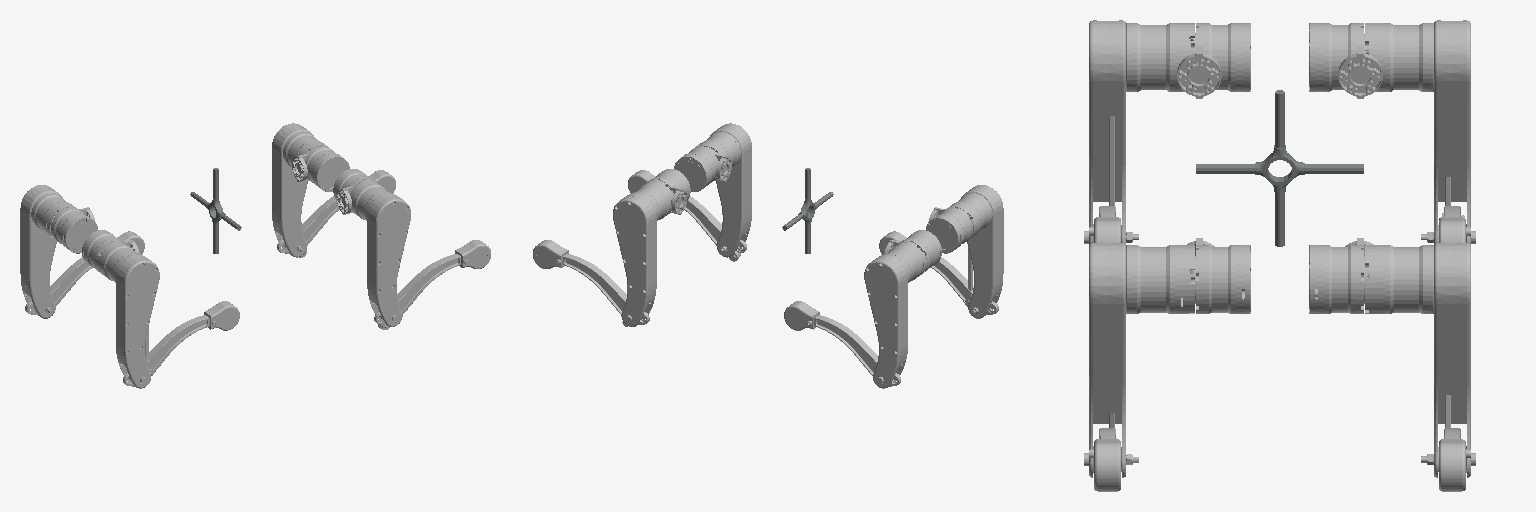
robot.urdf — CatModel2:
<?xml version="1.0" encoding="utf-8"?>
<!-- This URDF was automatically created by SolidWorks to URDF Exporter! Originally created by [author] ([email redacted]) 
     Commit Version: 1.6.0-4-g7f85cfe  Build Version: 1.6.7995.38578
     For more information, please see http://wiki.ros.org/sw_urdf_exporter -->
<robot name="CatModel2">
  <link name="Cross">
    <inertial>
      <origin xyz="-2.36887598425994E-09 6.86024698058002E-09 7.23837040835466E-08" rpy="0 0 0" />
      <mass value="0.113153796633628" />
      <inertia ixx="0.000168367866604863" ixy="-5.26684924025301E-12" ixz="-2.60273835718829E-12" iyy="8.47639452117596E-05" iyz="5.67116897297494E-17" izz="8.47639968505591E-05" />
    </inertial>
    <visual>
      <origin xyz="0 0 0" rpy="0 0 0" />
      <geometry>
        <mesh filename="package://CatModel2/meshes/Cross.STL" />
      </geometry>
      <material name="">
        <color rgba="0.529411764705882 0.549019607843137 0.549019607843137 1" />
      </material>
    </visual>
    <collision>
      <origin xyz="0 0 0" rpy="0 0 0" />
      <geometry>
        <mesh filename="package://CatModel2/meshes/Cross.STL" />
      </geometry>
    </collision>
  </link>
  <link name="Chset">
    <inertial>
      <origin xyz="0.104539401366541 -2.01621244951154E-05 0.00199155261541815" rpy="0 0 0" />
      <mass value="1.27226284554368" />
      <inertia ixx="0.00255686763387815" ixy="1.33312993805634E-06" ixz="-2.99664267243253E-07" iyy="0.00151466436913898" iyz="4.31801099234721E-07" izz="0.00191207554949256" />
    </inertial>
    <visual>
      <origin xyz="0 0 0" rpy="0 0 0" />
      <geometry>
        <mesh filename="package://CatModel2/meshes/Chset.STL" />
      </geometry>
      <material name="">
        <color rgba="0.752941176470588 0.752941176470588 0.752941176470588 1" />
      </material>
    </visual>
    <collision>
      <origin xyz="0 0 0" rpy="0 0 0" />
      <geometry>
        <mesh filename="package://CatModel2/meshes/Chset.STL" />
      </geometry>
    </collision>
  </link>
  <joint name="Chest" type="revolute">
    <origin xyz="0 0 0" rpy="0 0 0" />
    <parent link="Cross" />
    <child link="Chset" />
    <axis xyz="0 1 0" />
    <limit lower="-0.82" upper="0.82" effort="15" velocity="5"  />
  </joint>


  <link name="LF_abad">
    <inertial>
      <origin xyz="-0.00315731503471477 -0.0157630614011298 0.000227202912327459" rpy="0 0 0" />
      <mass value="0.0419114568273025" />
      <inertia ixx="1.07554121115931E-05" ixy="-2.15175894008892E-08" ixz="-2.57374378273883E-10" iyy="2.05011185239708E-05" iyz="2.96687209794454E-09" izz="1.21095277275058E-05" />
    </inertial>
    <visual>
      <origin xyz="0 0 0" rpy="0 0 0" />
      <geometry>
        <mesh filename="package://CatModel2/meshes/LF_abad.STL" />
      </geometry>
      <material name="">
        <color rgba="0.752941176470588 0.752941176470588 0.752941176470588 1" />
      </material>
    </visual>
    <collision>
      <origin xyz="0 0 0" rpy="0 0 0" />
      <geometry>
        <mesh filename="package://CatModel2/meshes/LF_abad.STL" />
      </geometry>
    </collision>
  </link>
  <joint name="LF_abad" type="revolute">
    <origin xyz="0.212 0.065 0" rpy="0 0 0" />
    <parent link="Chset" />
    <child link="LF_abad" />
    <axis xyz="1 0 0" />
    <limit lower="-0.82" upper="0.82" effort="9.6" velocity="10" />
  </joint>
  <link name="LF_hip">
    <inertial>
      <origin xyz="-0.00243046488327595 -0.011112656728708 -0.0480003348020764" rpy="0 0 0" />
      <mass value="0.314940626414665" />
      <inertia ixx="0.000594291196733731" ixy="1.06224043635234E-07" ixz="-2.17866578465269E-05" iyy="0.000651542828739686" iyz="-8.47333404135857E-07" izz="7.11737574291626E-05" />
    </inertial>
    <visual>
      <origin xyz="0 0 0" rpy="0 0 0" />
      <geometry>
        <mesh filename="package://CatModel2/meshes/LF_hip.STL" />
      </geometry>
      <material name="">
        <color rgba="0.752941176470588 0.752941176470588 0.752941176470588 1" />
      </material>
    </visual>
    <collision>
      <origin xyz="0 0 0" rpy="0 0 0" />
      <geometry>
        <mesh filename="package://CatModel2/meshes/LF_hip.STL" />
      </geometry>
    </collision>
  </link>
  <joint name="LF_hip" type="continuous">
    <origin xyz="0 0.074 0" rpy="0 0 0" />
    <parent link="LF_abad" />
    <child link="LF_hip" />
     <axis xyz="0 1 0" />
    <limit lower="0" upper="1.57" effort="9.6" velocity="10" />
  </joint>
  <link name="LF_knee">
    <inertial>
      <origin xyz="0.00561755093046278 0.000301101032891854 -0.0903666836811455" rpy="0 0 0" />
      <mass value="0.109679028133934" />
      <inertia ixx="0.000181176674288961" ixy="6.8497866262947E-08" ixz="1.72571263996097E-05" iyy="0.000189177473520563" iyz="-1.19481690597446E-06" izz="1.26617827767227E-05" />
    </inertial>
    <visual>
      <origin xyz="0 0 0" rpy="0 0 0" />
      <geometry>
        <mesh filename="package://CatModel2/meshes/LF_knee.STL" />
      </geometry>
      <material name="">
        <color rgba="0.752941176470588 0.752941176470588 0.752941176470588 1" />
      </material>
    </visual>
    <collision>
      <origin xyz="0 0 0" rpy="0 0 0" />
      <geometry>
        <mesh filename="package://CatModel2/meshes/LF_knee.STL" />
      </geometry>
    </collision>
  </link>
  <joint name="LF_knee" type="revolute">
    <origin xyz="0 0 -0.16" rpy="0 0 0" />
    <parent link="LF_hip" />
    <child link="LF_knee" />
    <axis xyz="0 1 0" />
    <limit lower="-2.686" upper="-1.256" effort="15" velocity="5"  />
  </joint>


  <link name="RF_abad">
    <inertial>
      <origin xyz="-0.00315731503973792 0.0157630613984146 -0.000227202903724633" rpy="0 0 0" />
      <mass value="0.0419114568371167" />
      <inertia ixx="1.0755412112407E-05" ixy="2.15175896810622E-08" ixz="2.57376924907662E-10" iyy="2.05011185252329E-05" iyz="2.96687245223769E-09" izz="1.21095277281205E-05" />
    </inertial>
    <visual>
      <origin xyz="0 0 0" rpy="0 0 0" />
      <geometry>
        <mesh filename="package://CatModel2/meshes/RF_abad.STL" />
      </geometry>
      <material name="">
        <color rgba="0.752941176470588 0.752941176470588 0.752941176470588 1" />
      </material>
    </visual>
    <collision>
      <origin xyz="0 0 0" rpy="0 0 0" />
      <geometry>
        <mesh filename="package://CatModel2/meshes/RF_abad.STL" />
      </geometry>
    </collision>
  </link>
  <joint name="RF_abad" type="revolute">
    <origin xyz="0.212 -0.065 0" rpy="0 0 0" />
    <parent link="Chset" />
    <child link="RF_abad" />
    <axis xyz="1 0 0" />
    <limit lower="-0.82" upper="0.82" effort="9.6" velocity="10" />
  </joint>
  <link name="RF_hip">
    <inertial>
      <origin xyz="-0.00293006849986141 0.0111126338635463 -0.0481325315861406" rpy="0 0 0" />
      <mass value="0.314940960599133" />
      <inertia ixx="0.00059459595957455" ixy="4.23723881541258E-07" ixz="-3.16399196720918E-05" iyy="0.000651543290902422" iyz="8.93977706686632E-07" izz="7.08694567016182E-05" />
    </inertial>
    <visual>
      <origin xyz="0 0 0" rpy="0 0 0" />
      <geometry>
        <mesh filename="package://CatModel2/meshes/RF_hip.STL" />
      </geometry>
      <material name="">
        <color rgba="0.752941176470588 0.752941176470588 0.752941176470588 1" />
      </material>
    </visual>
    <collision>
      <origin xyz="0 0 0" rpy="0 0 0" />
      <geometry>
        <mesh filename="package://CatModel2/meshes/RF_hip.STL" />
      </geometry>
    </collision>
  </link>
  <joint name="RF_hip" type="revolute">
    <origin xyz="0 -0.074 0" rpy="0 0 0" />
    <parent link="RF_abad" />
    <child link="RF_hip" />
    <axis xyz="0 1 0" />
    <limit lower="0" upper="1.57" effort="9.6" velocity="10" />
  </joint>
  <link name="RF_knee">
    <inertial>
      <origin xyz="0.0057361734222746 -0.000308939783191214 -0.088488367824386" rpy="0 0 0" />
      <mass value="0.106646958451677" />
      <inertia ixx="0.0001810316756261" ixy="-6.840967726939E-08" ixz="1.72986379221257E-05" iyy="0.000189007894340882" iyz="1.19485945084853E-06" izz="1.26261291969592E-05" />
    </inertial>
    <visual>
      <origin xyz="0 0 0" rpy="0 0 0" />
      <geometry>
        <mesh filename="package://CatModel2/meshes/RF_knee.STL" />
      </geometry>
      <material name="">
        <color rgba="0.752941176470588 0.752941176470588 0.752941176470588 1" />
      </material>
    </visual>
    <collision>
      <origin xyz="0 0 0" rpy="0 0 0" />
      <geometry>
        <mesh filename="package://CatModel2/meshes/RF_knee.STL" />
      </geometry>
    </collision>
  </link>
  <joint name="right_knee" type="revolute">
    <origin xyz="0 0 -0.16"       rpy="0 0 0" />
    <parent link="RF_hip" />
    <child link="RF_knee" />
     <axis xyz="0 1 0" />
    <limit lower="-2.686" upper="-1.256" effort="15" velocity="5"  />
  </joint>


  <link name="Base">
    <inertial>
      <origin xyz="-0.104866519097141 -0.000200131242715715 0.00196670518984567" rpy="0 0 0" />
      <mass value="1.2520876747788" />
      <inertia ixx="0.00253418595656046" ixy="-3.60836540668734E-08" ixz="-1.55285181148202E-07" iyy="0.00154222832881662" iyz="4.07833979931759E-08" izz="0.00183756574635262" />
    </inertial>
    <visual>
      <origin xyz="0 0 0" rpy="0 0 0" />
      <geometry>
        <mesh filename="package://CatModel2/meshes/Base.STL" />
      </geometry>
      <material name="">
        <color rgba="0.752941176470588 0.752941176470588 0.752941176470588 1" />
      </material>
    </visual>
    <collision>
      <origin xyz="0 0 0" rpy="0 0 0" />
      <geometry>
        <mesh filename="package://CatModel2/meshes/Base.STL" />
      </geometry>
    </collision>
  </link>
  <joint name="Base" type="revolute">
    <origin xyz="0 0 0" rpy="0 0 0" />
    <parent link="Cross" />
    <child link="Base" />
    <axis xyz="0 0 1" />
    <limit lower="-0.82" upper="0.82" effort="15" velocity="5"  />
  </joint>


  <link name="LH_abad">
    <inertial>
      <origin xyz="0.00315731228081689 -0.0157630634983849 -0.000227202943482577" rpy="0 0 0" />
      <mass value="0.0419114512334411" />
      <inertia ixx="1.07554116705623E-05" ixy="2.1517601323664E-08" ixz="-2.57343118825613E-10" iyy="2.05011179838274E-05" iyz="-2.96677366275741E-09" izz="1.21095272230384E-05" />
    </inertial>
    <visual>
      <origin xyz="0 0 0" rpy="0 0 0" />
      <geometry>
        <mesh filename="package://CatModel2/meshes/LH_abad.STL" />
      </geometry>
      <material name="">
        <color rgba="0.752941176470588 0.752941176470588 0.752941176470588 1" />
      </material>
    </visual>
    <collision>
      <origin xyz="0 0 0" rpy="0 0 0" />
      <geometry>
        <mesh filename="package://CatModel2/meshes/LH_abad.STL" />
      </geometry>
    </collision>
  </link>
  <joint name="LH_abad" type="revolute">
    <origin xyz="-0.212 0.065 0" rpy="0 0 0" />
    <parent link="Base" />
    <child link="LH_abad" />
    <axis xyz="1 0 0" />
    <limit lower="-0.82" upper="0.82" effort="9.6" velocity="10" />
  </joint>
  <link name="LH_hip">
    <inertial>
      <origin xyz="-0.00261060966947746 -0.0111126568628543 -0.0453239292311085" rpy="0 0 0" />
      <mass value="0.31494062640954" />
      <inertia ixx="0.000594897165702347" ixy="1.49898168266193E-08" ixz="-2.64691530400208E-05" iyy="0.000651542828738764" iyz="-1.91453340197307E-06" izz="7.05677884596025E-05" />
    </inertial>
    <visual>
      <origin xyz="0 0 0" rpy="0 0 0" />
      <geometry>
        <mesh filename="package://CatModel2/meshes/LH_hip.STL" />
      </geometry>
      <material name="">
        <color rgba="0.752941176470588 0.752941176470588 0.752941176470588 1" />
      </material>
    </visual>
    <collision>
      <origin xyz="0 0 0" rpy="0 0 0" />
      <geometry>
        <mesh filename="package://CatModel2/meshes/LH_hip.STL" />
      </geometry>
    </collision>
  </link>
  <joint name="LH_hip" type="revolute">
    <origin xyz="0 0.074 0"       rpy="0 0 0" />
    <parent link="LH_abad" />
    <child link="LH_hip" />
     <axis xyz="0 1 0" />
    <limit lower="0" upper="1.57" effort="9.6" velocity="10" />
  </joint>
  <link name="LH_knee">
    <inertial>
      <origin xyz="0.00561755100792938 0.000301101241921481 -0.0903666841961551" rpy="0 0 0" />
      <mass value="0.109679032714885" />
      <inertia ixx="0.000181176659269156" ixy="6.84977743796153E-08" ixz="1.72571308921416E-05" iyy="0.000189177466092634" iyz="-1.19481707528627E-06" izz="1.26617899745287E-05" />
    </inertial>
    <visual>
      <origin xyz="0 0 0" rpy="0 0 0" />
      <geometry>
        <mesh filename="package://CatModel2/meshes/LH_knee.STL" />
      </geometry>
      <material name="">
        <color rgba="0.752941176470588 0.752941176470588 0.752941176470588 1" />
      </material>
    </visual>
    <collision>
      <origin xyz="0 0 0" rpy="0 0 0" />
      <geometry>
        <mesh filename="package://CatModel2/meshes/LH_knee.STL" />
      </geometry>
    </collision>
  </link>
  <joint name="LH_knee" type="revolute">
    <origin xyz="0 0 -0.16"      rpy="0 0 0" />
    <parent link="LH_hip" />
    <child link="LH_knee" />
    <axis xyz="0 1 0" />
    <limit lower="-2.686" upper="-1.256" effort="15" velocity="5"  />
  </joint>

  
  <link name="RH_abad">
    <inertial>
      <origin xyz="0.00315731228081695 0.0157630634983865 0.000227202943490899" rpy="0 0 0" />
      <mass value="0.041911451233441" />
      <inertia ixx="1.07554116705622E-05" ixy="-2.15176013236536E-08" ixz="2.57343118826748E-10" iyy="2.05011179838273E-05" iyz="-2.96677366276177E-09" izz="1.21095272230384E-05" />
    </inertial>
    <visual>
      <origin xyz="0 0 0" rpy="0 0 0" />
      <geometry>
        <mesh filename="package://CatModel2/meshes/RH_abad.STL" />
      </geometry>
      <material name="">
        <color rgba="0.752941176470588 0.752941176470588 0.752941176470588 1" />
      </material>
    </visual>
    <collision>
      <origin xyz="0 0 0" rpy="0 0 0" />
      <geometry>
        <mesh filename="package://CatModel2/meshes/RH_abad.STL" />
      </geometry>
    </collision>
  </link>
  <joint name="RH_abad" type="revolute">
    <origin xyz="-0.212 -0.065 0" rpy="0 0 0" />
    <parent link="Base" />
    <child link="RH_abad" />
    <axis xyz="1 0 0" />
    <limit lower="-0.82" upper="0.82" effort="9.6" velocity="10" />
  </joint>
  <link name="RH_hip">
    <inertial>
      <origin xyz="-0.00121771777274157 0.0111126311483641 -0.0465691992833869" rpy="0 0 0" />
      <mass value="0.31494099996697" />
      <inertia ixx="0.000595250316400976" ixy="6.36073467517975E-07" ixz="-2.70738278482031E-05" iyy="0.000651543359774013" iyz="1.54882059560898E-06" izz="7.02151686679286E-05" />
    </inertial>
    <visual>
      <origin xyz="0 0 0" rpy="0 0 0" />
      <geometry>
        <mesh filename="package://CatModel2/meshes/RH_hip.STL" />
      </geometry>
      <material name="">
        <color rgba="0.752941176470588 0.752941176470588 0.752941176470588 1" />
      </material>
    </visual>
    <collision>
      <origin xyz="0 0 0" rpy="0 0 0" />
      <geometry>
        <mesh filename="package://CatModel2/meshes/RH_hip.STL" />
      </geometry>
    </collision>
  </link>
  <joint name="RH_hip" type="revolute">
    <origin xyz="0 -0.074 0"       rpy="0 0 0" />
    <parent link="RH_abad" />
    <child link="RH_hip" />
    <axis xyz="0 1 0" />
    <limit lower="0" upper="1.57" effort="9.6" velocity="10" />
  </joint>
  <link name="RH_knee">
    <inertial>
      <origin xyz="0.00573618217536953 -0.000308939776447942 -0.0884883618564003" rpy="0 0 0" />
      <mass value="0.106646978246544" />
      <inertia ixx="0.00018103168186845" ixy="-6.84128596529973E-08" ixz="1.72975770397883E-05" iyy="0.000189007967097882" iyz="1.19485505493659E-06" izz="1.26261947469519E-05" />
    </inertial>
    <visual>
      <origin xyz="0 0 0" rpy="0 0 0" />
      <geometry>
        <mesh filename="package://CatModel2/meshes/RH_knee.STL" />
      </geometry>
      <material name="">
        <color rgba="0.752941176470588 0.752941176470588 0.752941176470588 1" />
      </material>
    </visual>
    <collision>
      <origin xyz="0 0 0" rpy="0 0 0" />
      <geometry>
        <mesh filename="package://CatModel2/meshes/RH_knee.STL" />
      </geometry>
    </collision>
  </link>
  <joint name="RH_knee" type="revolute">
    <origin xyz="0 0 -0.16"       rpy="0 0 0" />
    <parent link="RH_hip" />
    <child link="RH_knee" />
     <axis xyz="0 1 0" />
    <limit lower="-2.686" upper="-1.256" effort="15" velocity="5"  />
  </joint>
</robot>

--- What the picture shows (computed from the rendered views, not written in the file) ---
Views: 3 orthographic renders of the robot side by side, from view 1: azimuth 30°, elevation 25°; view 2: azimuth 150°, elevation 25°; view 3: azimuth 270°, elevation 25°.
Model CatModel2 with 15 links and 14 joints (13 revolute, 1 continuous), rooted at Cross, posed all joints at 0 but 4 set to mid-range because 0 is outside their limits (LF_knee = -1.97, right_knee = -1.97, LH_knee = -1.97, RH_knee = -1.97).
Visible links, largest first — view 1: RH_hip, RF_hip, LH_hip, LF_hip, RF_knee, RH_knee, LF_abad, LH_abad, LF_knee, LH_knee, Cross, RF_abad (+1 smaller); view 2: LF_hip, LH_hip, RH_hip, RF_hip, LF_knee, LH_knee, RF_abad, RH_abad, RF_knee, RH_knee, Cross, LF_abad (+1 smaller); view 3: LF_hip, RF_hip, LH_hip, RH_hip, LH_abad, RH_abad, LF_abad, RF_abad, Cross, LF_knee, RF_knee, LH_knee (+1 smaller).
Boxes of the visible links, x1=… form: RH_hip: x1=97, y1=241, x2=159, y2=388; RF_hip: x1=350, y1=180, x2=410, y2=329; LH_hip: x1=20, y1=185, x2=75, y2=318; LF_hip: x1=272, y1=123, x2=327, y2=257; RF_knee: x1=374, y1=240, x2=490, y2=324; RH_knee: x1=123, y1=301, x2=239, y2=386; LF_abad: x1=292, y1=146, x2=349, y2=191; LH_abad: x1=51, y1=207, x2=97, y2=253; LF_knee: x1=277, y1=170, x2=395, y2=253; LH_knee: x1=25, y1=231, x2=144, y2=315; Cross: x1=190, y1=168, x2=241, y2=253; RF_abad: x1=333, y1=169, x2=375, y2=214; LF_hip: x1=613, y1=180, x2=673, y2=326; LH_hip: x1=864, y1=241, x2=926, y2=388; RH_hip: x1=948, y1=185, x2=1003, y2=318; RF_hip: x1=696, y1=123, x2=751, y2=261; LF_knee: x1=533, y1=240, x2=649, y2=324; LH_knee: x1=784, y1=301, x2=900, y2=386; RF_abad: x1=674, y1=146, x2=731, y2=191; RH_abad: x1=926, y1=207, x2=972, y2=253; RF_knee: x1=628, y1=170, x2=746, y2=252; RH_knee: x1=879, y1=231, x2=998, y2=315; Cross: x1=782, y1=168, x2=833, y2=253; LF_abad: x1=648, y1=169, x2=690, y2=214; LF_hip: x1=1364, y1=243, x2=1475, y2=477; RF_hip: x1=1084, y1=243, x2=1195, y2=477; LH_hip: x1=1364, y1=20, x2=1475, y2=244; RH_hip: x1=1084, y1=20, x2=1195, y2=244; LH_abad: x1=1309, y1=23, x2=1382, y2=98; RH_abad: x1=1177, y1=23, x2=1250, y2=98; LF_abad: x1=1309, y1=238, x2=1373, y2=313; RF_abad: x1=1187, y1=238, x2=1250, y2=313; Cross: x1=1196, y1=90, x2=1363, y2=246; LF_knee: x1=1439, y1=428, x2=1470, y2=491; RF_knee: x1=1089, y1=428, x2=1120, y2=491; LH_knee: x1=1439, y1=206, x2=1470, y2=242.
Bounding box of the posed robot: 0.6213 × 0.3167 × 0.2505 m (x, y, z).
Meshes: 15 distinct files referenced, 13 mesh visuals loaded (13 binary STL); not drawn: 2 (reference not matched to a file when rendering).
